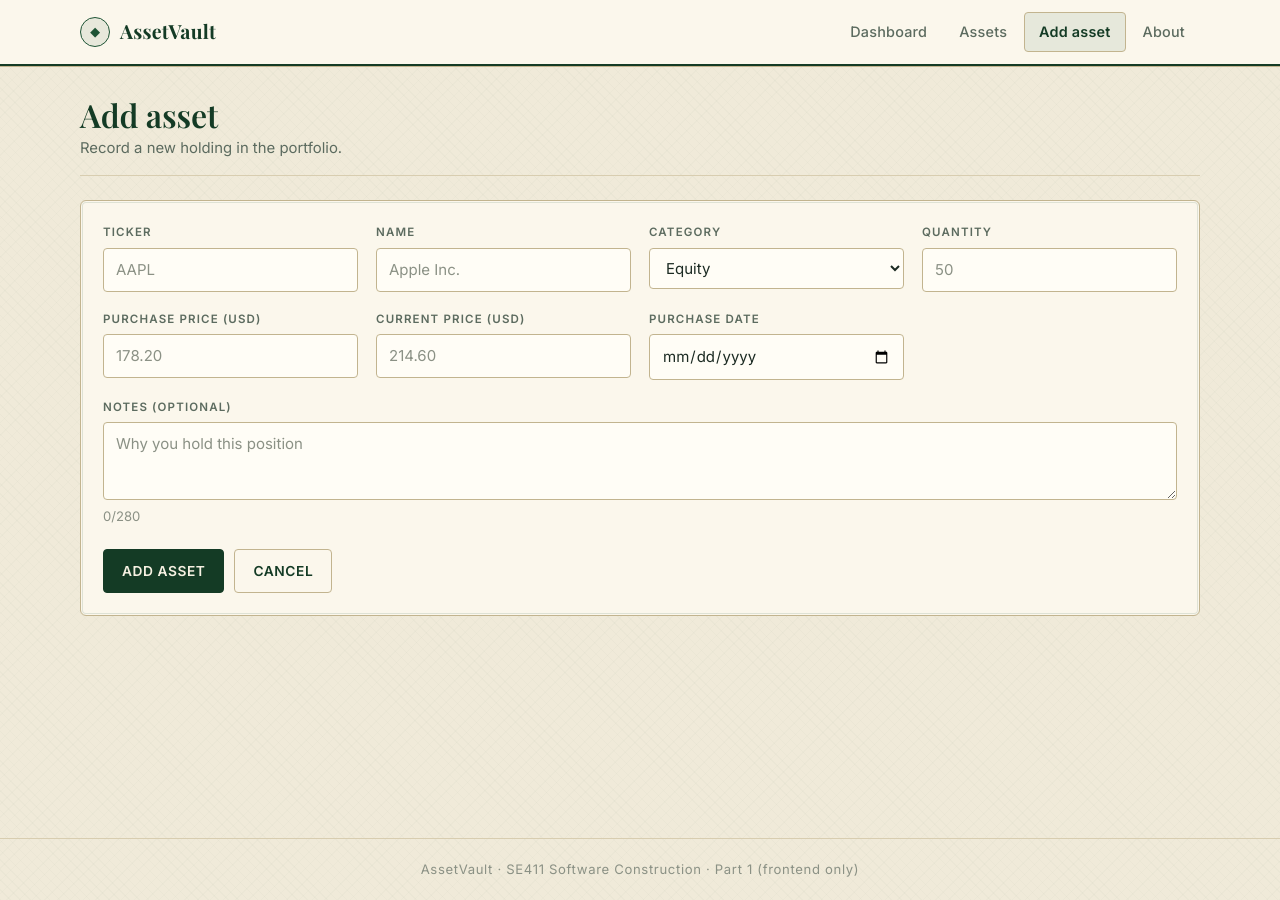
Test: adding an asset › rejects an empty form and does not navigate away
This screenshot has width=1280, height=900.
Click the button "Add asset".
click(164, 572)  # box x1=103 y1=550 x2=224 y2=594
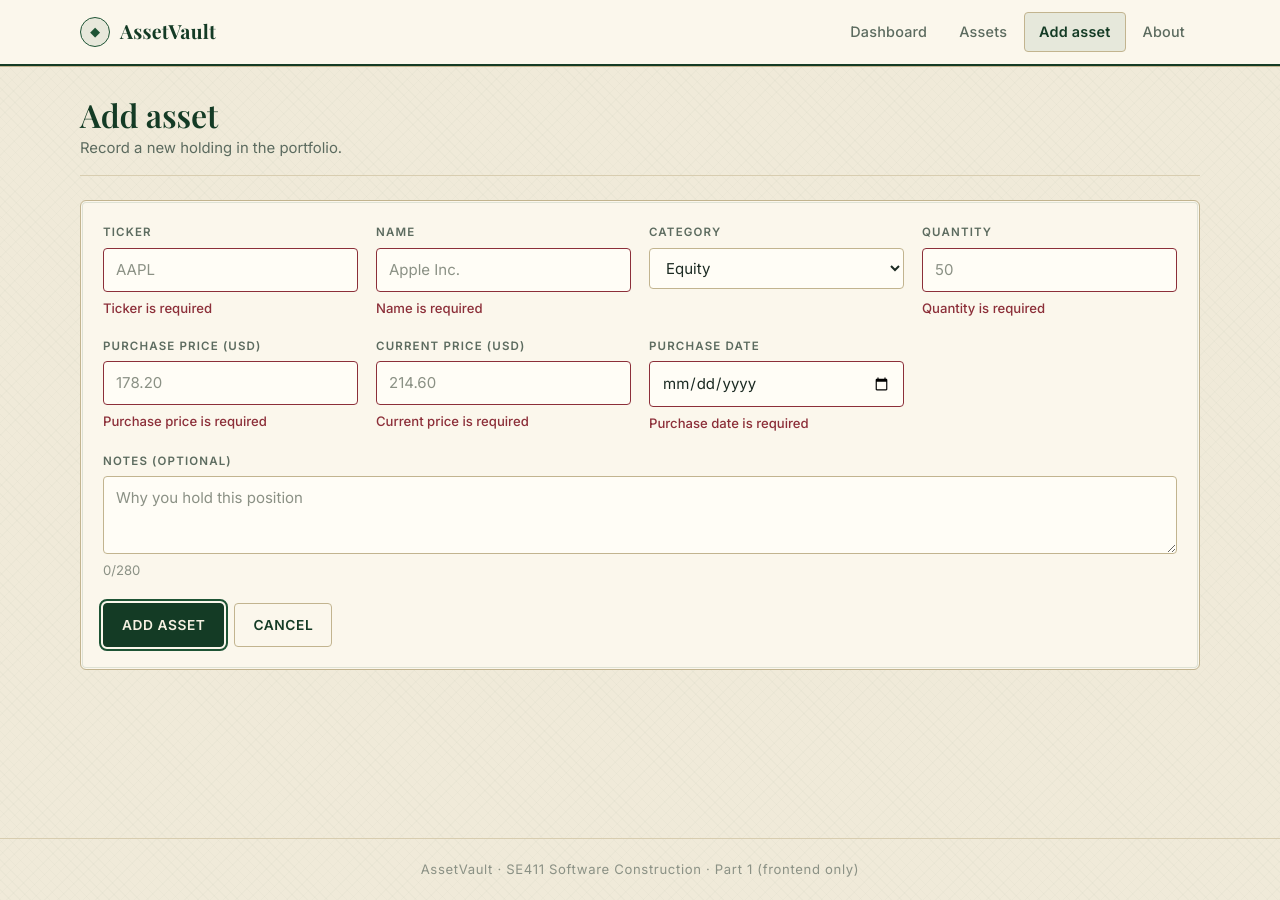
Expected: the heading "Add asset" is shown, x1=80 y1=93 x2=218 y2=136
Result: the text "Ticker is required" is shown at x1=103 y1=300 x2=212 y2=316
Result: the text "Name is required" is shown at x1=376 y1=300 x2=482 y2=316
